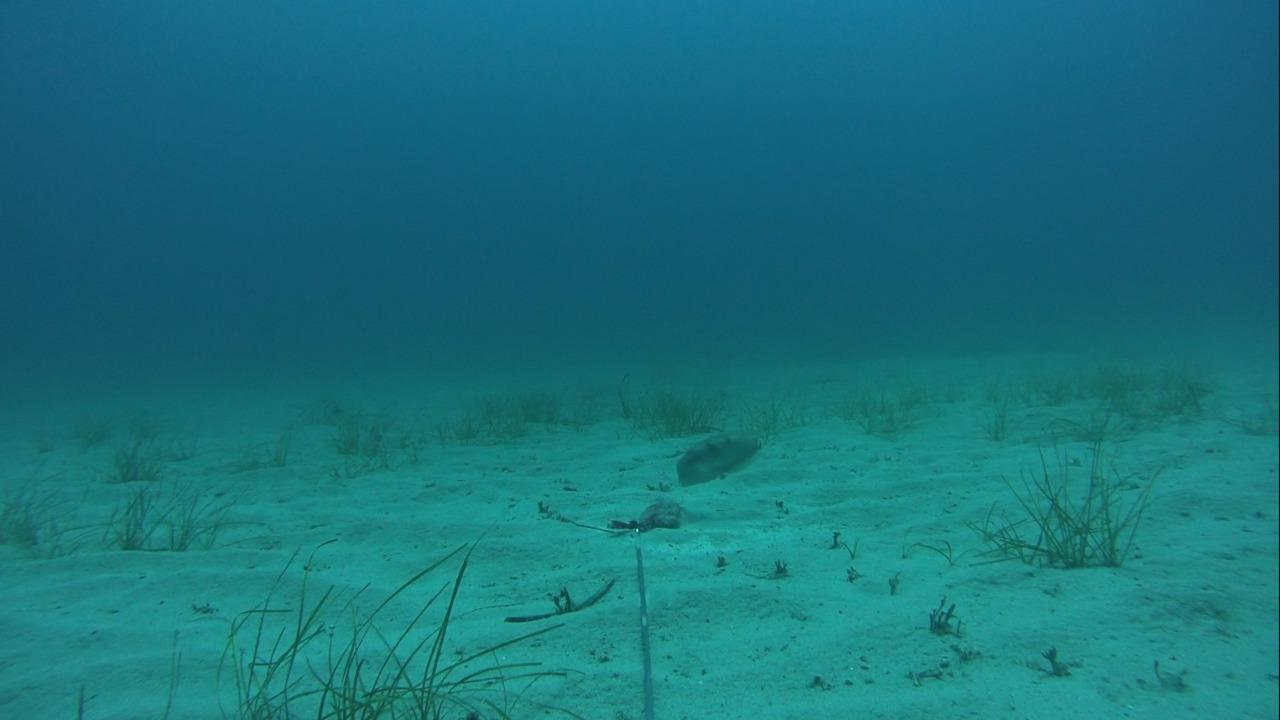raor: (672, 428, 768, 488)
